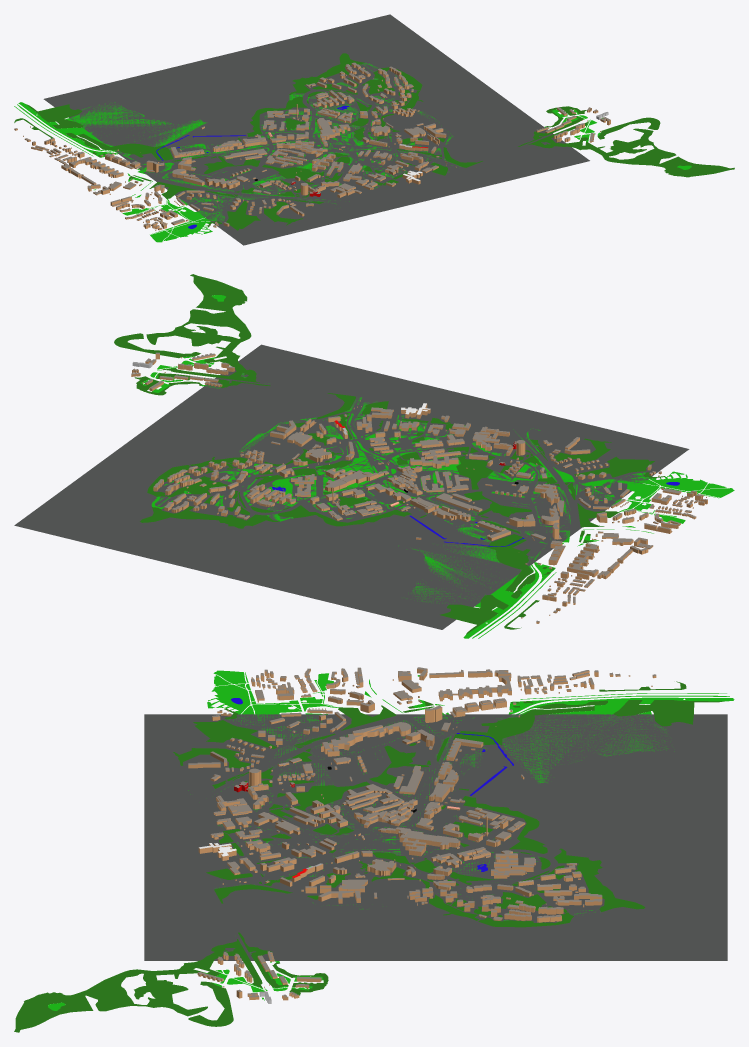
File: otaniemimat.glb
The picture shows the model from 3 angles, top to bottom: view 1: azimuth 30°, elevation 25°; view 2: azimuth 150°, elevation 25°; view 3: azimuth 270°, elevation 25°; orthographic projection. The views are drawn at different scales.
Visible parts, largest first — view 1: Plane, element.417, element.2422, element.2996, element.2998, element.3003, Käpälämäki, element.705, element.3000, Aalto-yliopisto Kandidaattikeskus, element.304; view 2: Plane, element.417, element.2422, element.2998, element.2996, element.3003, Aalto-yliopisto Kandidaattikeskus, Käpälämäki, element.3000, element.705; view 3: Plane, element.417, element.2422, element.2996, element.2998, element.3003, Aalto-yliopisto Kandidaattikeskus, Käpälämäki, element.3000, element.705, element.304, element.820 (+5 smaller).
Boxes of the visible parts, x1,y1,x2,y2 form: Plane: (43,14,589,245); element.417: (528,122,734,177); element.2422: (65,102,207,146); element.2996: (26,104,83,128); element.2998: (289,53,364,94); element.3003: (77,133,164,160); Käpälämäki: (226,201,260,230); element.705: (262,164,324,184); element.3000: (250,96,307,134); Aalto-yliopisto Kandidaattikeskus: (317,118,350,145); element.304: (276,140,327,153); Plane: (14,344,689,629); element.417: (146,274,259,382); element.2422: (398,545,521,607); element.2998: (140,506,279,528); element.2996: (440,595,508,634); element.3003: (484,539,533,592); Aalto-yliopisto Kandidaattikeskus: (325,468,387,491); Käpälämäki: (574,456,654,477); element.3000: (278,505,400,526); element.705: (454,455,495,489); Plane: (144,714,727,960); element.417: (14,939,262,1032); element.2422: (502,710,674,783); element.2996: (613,700,724,726); element.2998: (554,848,645,911); element.3003: (460,706,594,745); Aalto-yliopisto Kandidaattikeskus: (379,827,460,856); Käpälämäki: (193,720,276,749); element.3000: (463,802,547,853); element.705: (277,781,369,811); element.304: (359,799,417,828); element.820: (188,981,233,1026).
Size of the model in its own units: 2939 by 75 by 2472.
